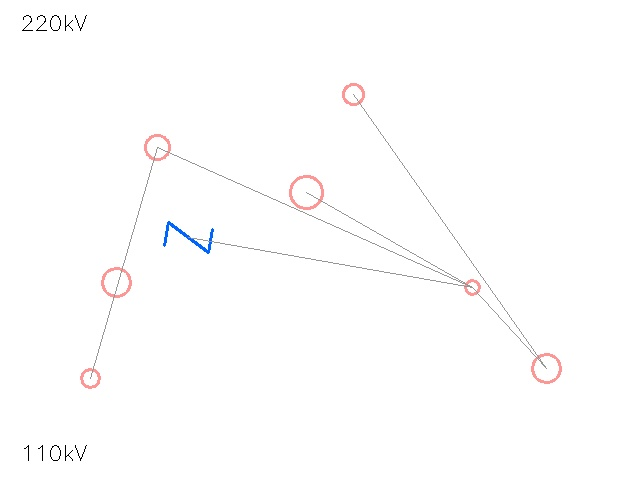circuit_breaker: (163, 212, 213, 262)
current_transformer: (518, 340, 574, 396)
fuse: (88, 254, 144, 310), (71, 359, 109, 397)
surge_arrester: (273, 159, 339, 225), (133, 123, 181, 171), (332, 73, 374, 115)
voltage_transformer: (457, 272, 487, 302)
